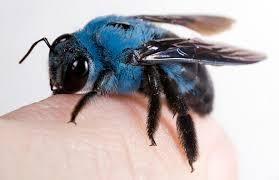Xylocopa: (26, 4, 241, 161)
